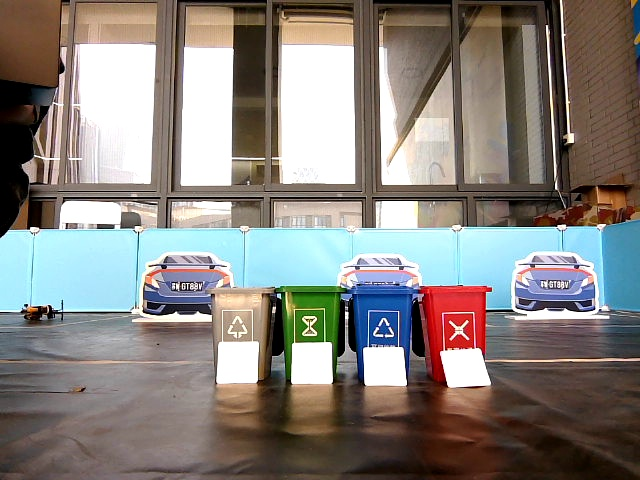blue_open: (354, 288, 410, 345)
green_open: (283, 286, 338, 340)
grey_open: (212, 286, 271, 342)
red_open: (426, 285, 483, 346)
